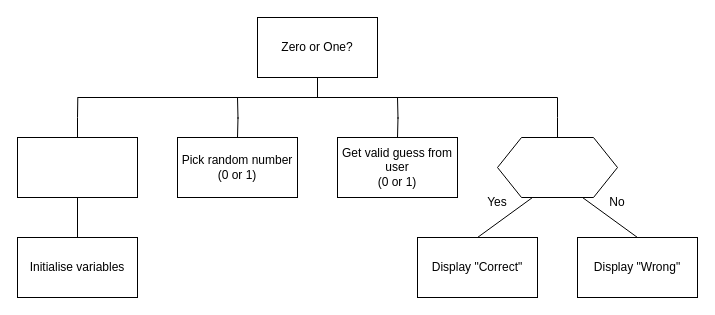
Some shapes in this 715 by 315 pixel diagram are drawn without their labels. Each missing label, with the centre of its shape:
"Import module" belongs at point 77,167.
"Is guess correct?" belongs at point 557,167.
